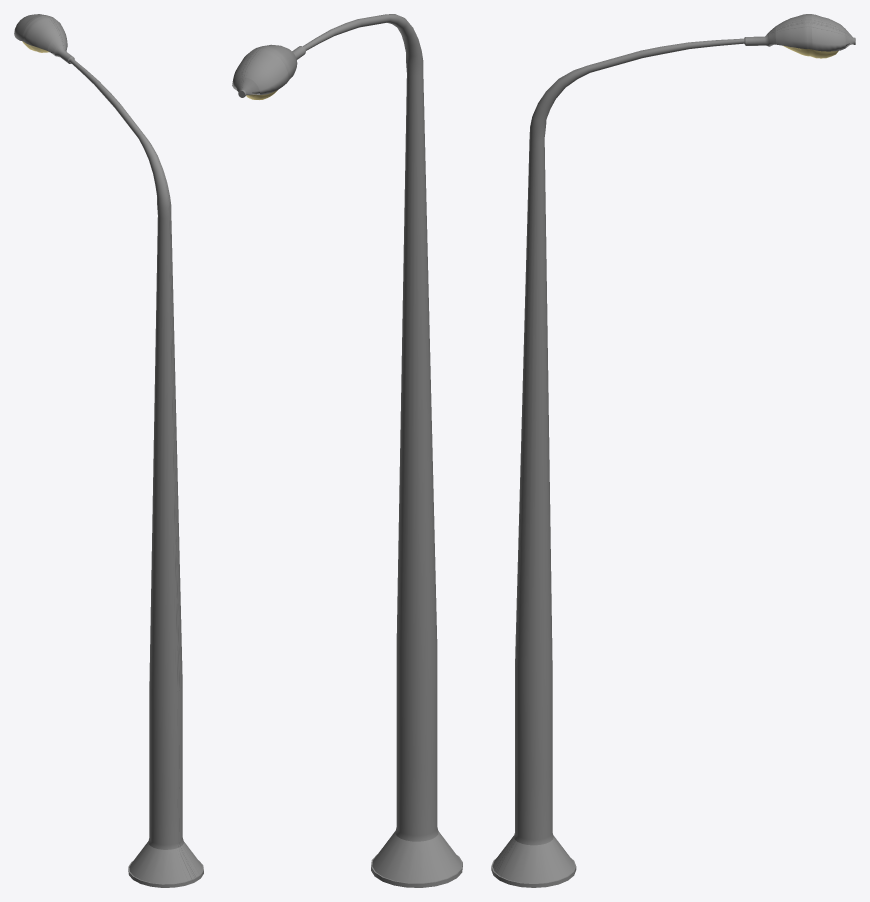
File: streetLamp.fbx
The picture shows the model from 3 angles, left to right: view 1: azimuth 30°, elevation 25°; view 2: azimuth 150°, elevation 25°; view 3: azimuth 270°, elevation 25°; orthographic projection. The views are drawn at different scales.
Visible parts, largest first — view 1: pCylinder1; view 2: pCylinder1; view 3: pCylinder1.
Boxes of the visible parts, left/top/right/bottom form: pCylinder1: left=14, top=14, right=203, bottom=887; pCylinder1: left=232, top=14, right=462, bottom=887; pCylinder1: left=491, top=14, right=855, bottom=887.
Bounding box in the file's own units: 2.43 × 26.91 × 10.41.
